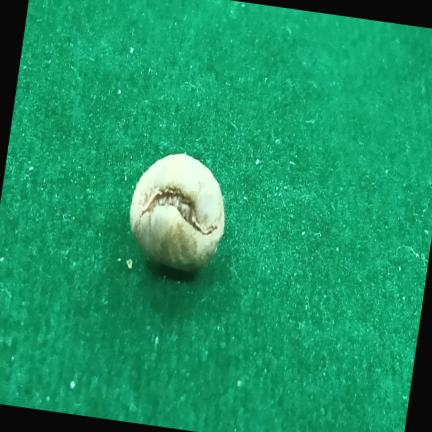good: (129, 153, 224, 271)
